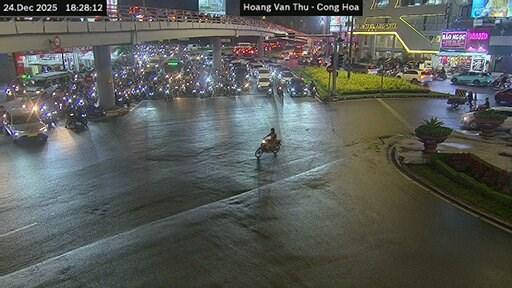motorbike: (255, 136, 280, 157), (38, 104, 56, 126), (64, 108, 86, 126), (489, 73, 511, 89), (86, 103, 105, 115), (432, 70, 445, 80), (266, 86, 272, 97)
